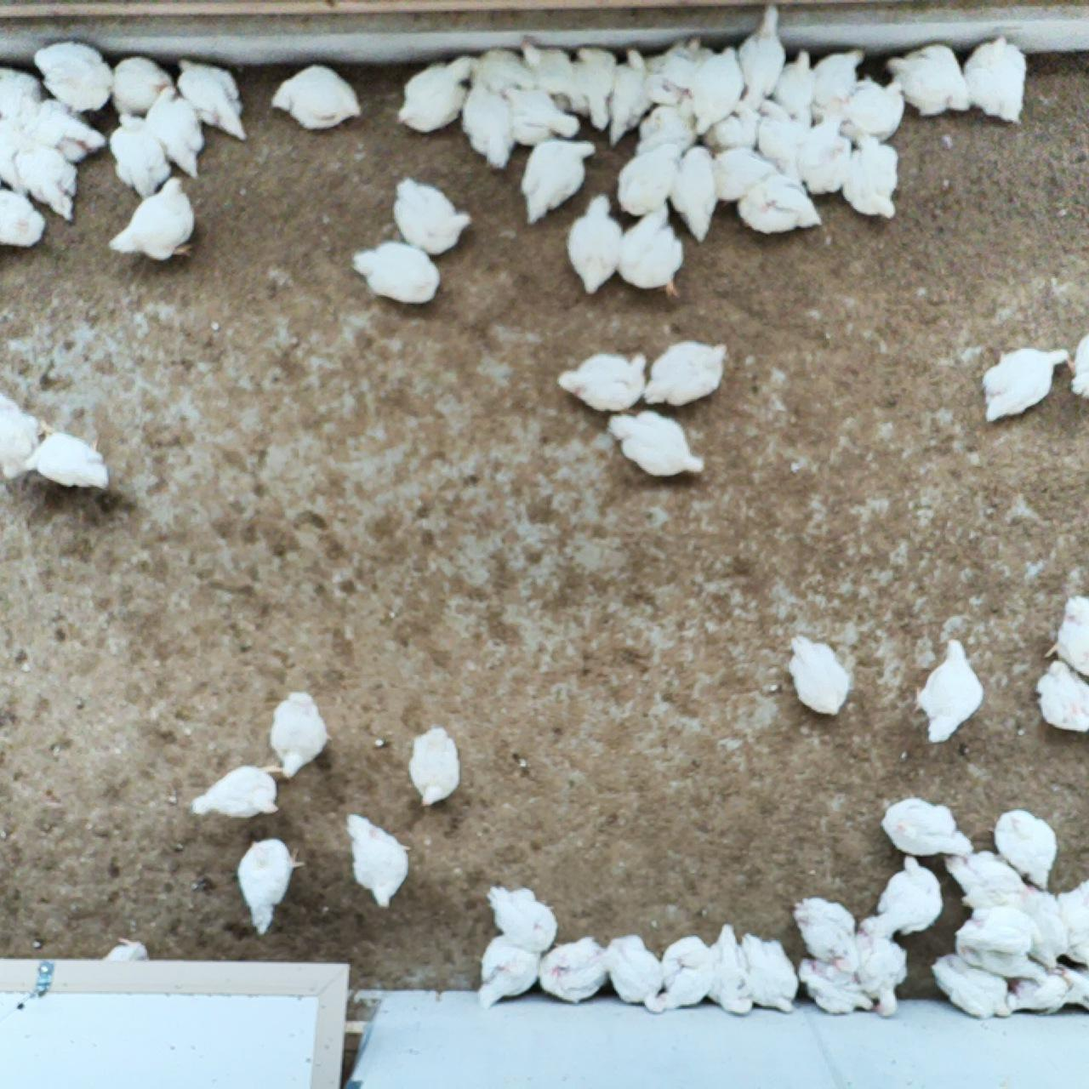chicken: (105, 175, 201, 268), (912, 635, 986, 748), (976, 344, 1072, 427), (234, 834, 308, 939), (343, 807, 418, 910), (394, 51, 481, 139), (613, 205, 694, 299), (516, 136, 597, 228), (171, 57, 254, 146), (606, 409, 709, 480), (390, 175, 476, 258), (881, 38, 971, 116), (268, 60, 364, 133), (268, 688, 339, 783), (880, 794, 982, 860), (25, 423, 115, 497), (186, 759, 295, 820), (31, 36, 114, 115), (641, 336, 731, 408), (962, 31, 1030, 126), (555, 349, 648, 418), (352, 238, 444, 307), (927, 949, 1014, 1020), (11, 135, 80, 224), (473, 929, 545, 1013), (784, 630, 851, 720), (481, 878, 560, 954), (871, 853, 945, 933), (736, 174, 825, 240), (566, 191, 621, 297), (150, 83, 210, 180), (667, 142, 723, 245), (992, 806, 1058, 891), (23, 99, 108, 165), (790, 895, 861, 973), (107, 109, 172, 194), (537, 932, 614, 1003), (605, 46, 658, 149), (843, 136, 905, 224), (689, 44, 747, 137), (617, 143, 685, 220), (737, 0, 789, 100), (406, 721, 464, 810), (740, 933, 802, 1016), (954, 928, 1043, 985), (839, 74, 910, 144), (794, 954, 875, 1014), (857, 921, 908, 1016), (605, 935, 665, 1015), (566, 44, 620, 131), (658, 933, 717, 1011), (797, 114, 852, 196), (707, 924, 756, 1016), (470, 80, 517, 172), (500, 86, 579, 139), (811, 44, 871, 113), (1034, 659, 1089, 733), (0, 390, 43, 483), (108, 56, 172, 117), (712, 145, 779, 203), (757, 100, 810, 173), (1045, 593, 1089, 679), (515, 36, 574, 100), (1024, 888, 1069, 967), (772, 46, 817, 124), (952, 851, 1023, 899), (701, 103, 764, 156), (0, 187, 51, 252), (466, 46, 539, 91), (636, 102, 700, 152), (1007, 969, 1072, 1012), (969, 904, 1041, 941), (0, 118, 33, 197), (0, 60, 40, 119), (665, 36, 707, 89), (1063, 882, 1089, 963), (645, 67, 689, 110), (1070, 329, 1089, 406), (1063, 965, 1089, 1009)
